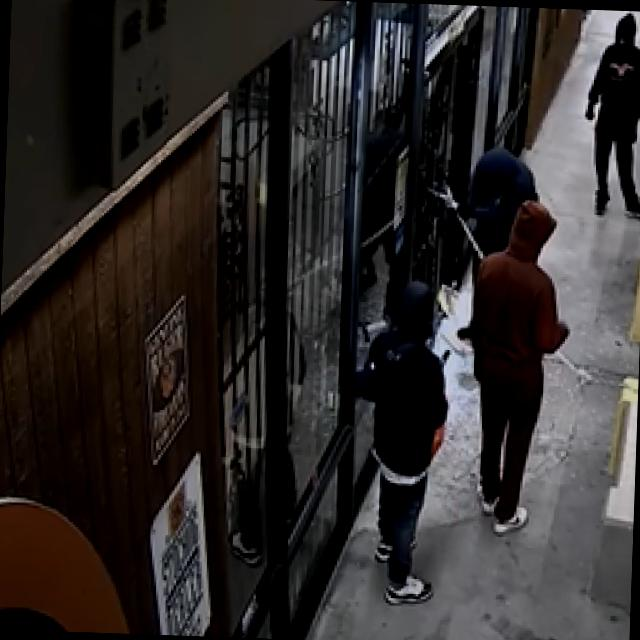person: (462, 198, 576, 531), (353, 276, 454, 604), (456, 145, 539, 367), (582, 11, 640, 216)
